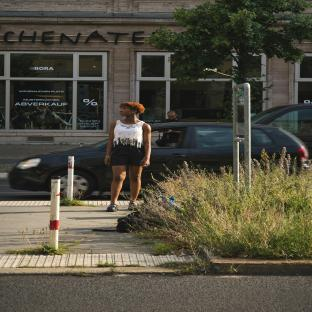Human: (104, 102, 151, 212)
